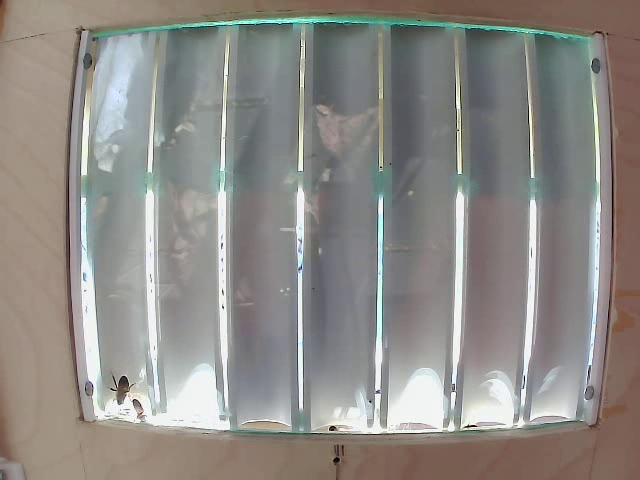bee: (110, 369, 140, 407)
